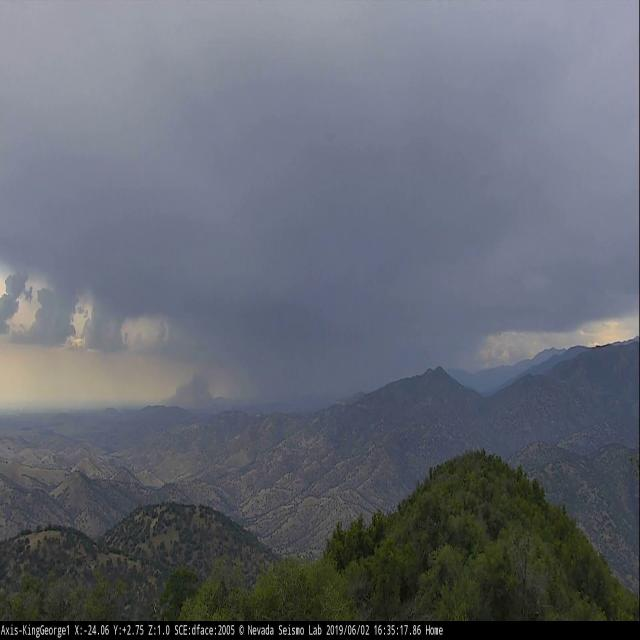smoke: (159, 374, 216, 411)
